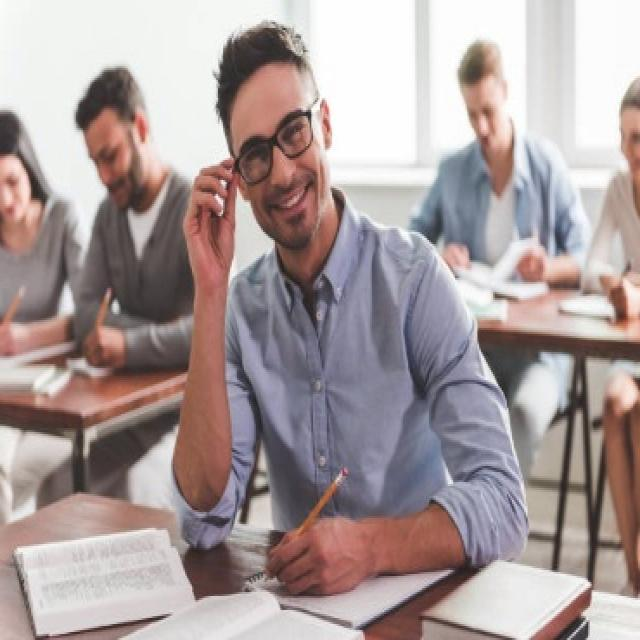adult: (167, 44, 476, 578), (65, 55, 180, 372)
